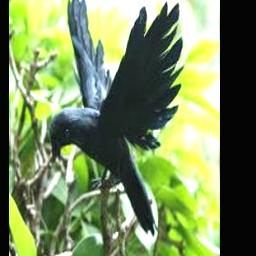Crow: (49, 0, 184, 237)
